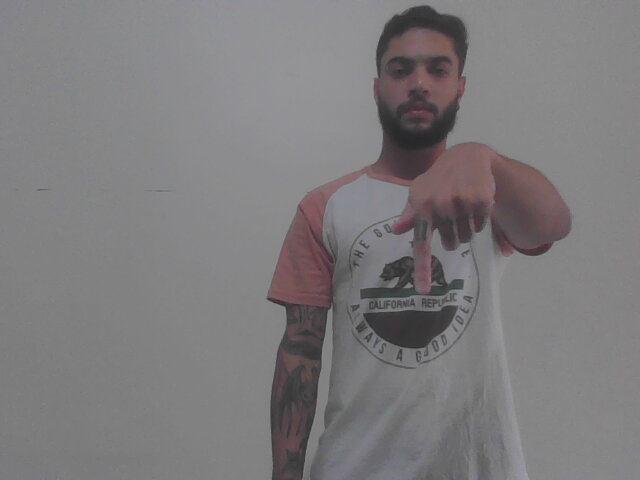q: (395, 140, 502, 294)
